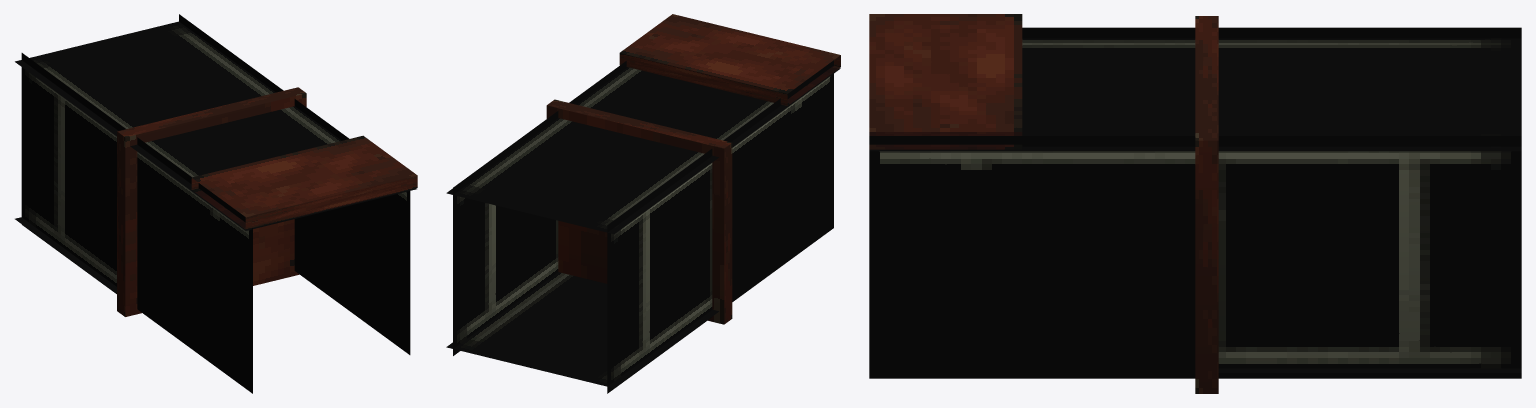
Rendered from prop_chairfallen-1-1.glb.
3 views of the same model, side by side, from view 1: azimuth 30°, elevation 25°; view 2: azimuth 150°, elevation 25°; view 3: azimuth 270°, elevation 25° (orthographic). The views are drawn at different scales.
Parts seen in each view (by area): view 1: prop_chairfallen-1-1; view 2: prop_chairfallen-1-1; view 3: prop_chairfallen-1-1.
Part boxes in pixels (x1,y1,x2,y2): prop_chairfallen-1-1: (15, 14, 417, 393); prop_chairfallen-1-1: (446, 14, 840, 393); prop_chairfallen-1-1: (869, 14, 1521, 393).
Size of the model in its own units: 0.3686 by 0.3565 by 0.8148.
Materials: 2 (2 with a texture image).
